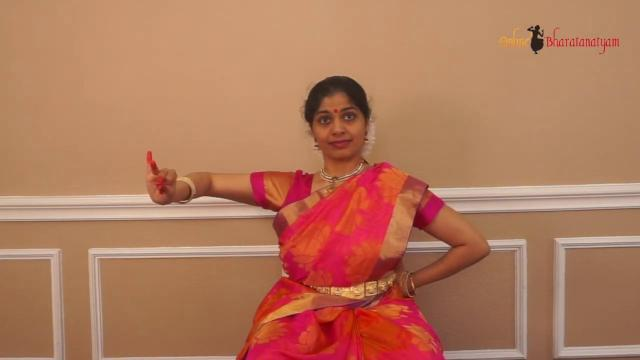bhramara: (133, 150, 201, 216)
